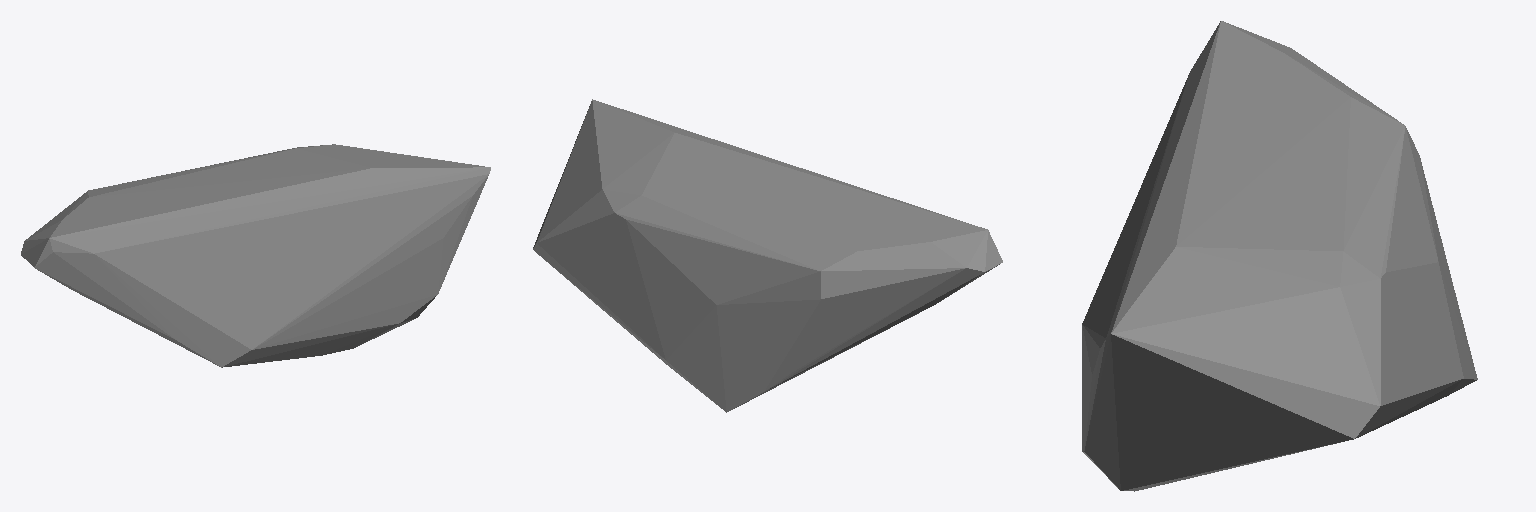
robot.urdf — 35_484:
<?xml version="1.0"?>
<robot name="35_484">
  <link name="link">
    <contact>
      <lateral_friction value="0.6"/>
    </contact>
    <inertial>
      <mass value = "0.351780655427266"/>
      <inertia ixx="0.0001107833738893144" ixy="-2.43159570826679e-05" ixz="-5.726090833402773e-06" iyy="0.00026858625717101107" iyz="-1.3304403178872008e-06" izz="0.00030194861085790155" />
    </inertial>
    <visual name="visual">
      <geometry>
        <mesh filename="35_484.obj"/>
      </geometry>
      <material name="material">
        <color rgba="0.5805884322483984 0.5805884322483984 0.5805884322483984 1.0"/>
      </material>
    </visual>
    <collision name="collision">
      <geometry>
        <mesh filename="35_484.obj"/>
      </geometry>
    </collision>
  </link>
</robot>

--- What the picture shows (computed from the rendered views, not written in the file) ---
The picture shows the robot from 3 angles, left to right: view 1: azimuth 30°, elevation 25°; view 2: azimuth 150°, elevation 25°; view 3: azimuth 270°, elevation 25°; orthographic projection.
Model 35_484 with 1 links and 0 joints (none), rooted at link, posed every joint at zero.
Visible links, largest first — view 1: link; view 2: link; view 3: link.
Boxes of the visible links, x1,y1,x2,y2 form: link: (21,144,490,367); link: (533,99,1002,412); link: (1082,21,1477,491).
Bounding box of the posed robot: 0.122 × 0.0637 × 0.0433 m (x, y, z).
Meshes: 1 distinct files referenced, 1 mesh visuals loaded (1 OBJ).
